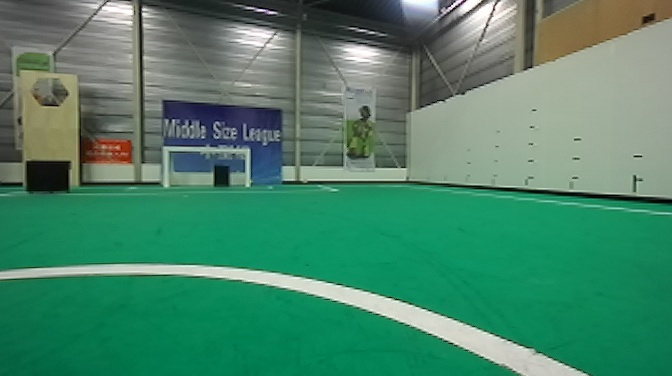goalpost: (160, 146, 171, 188), (242, 147, 252, 190)
